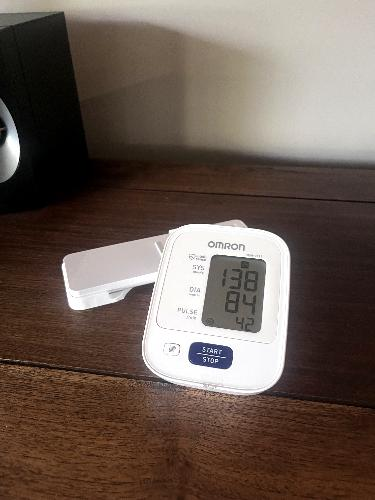bpm: (200, 251, 272, 334)
